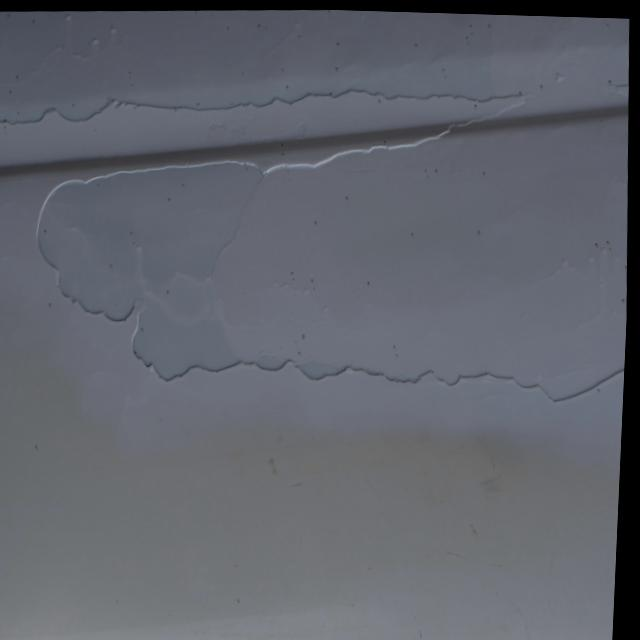Paint-fading: (0, 9, 629, 412)
